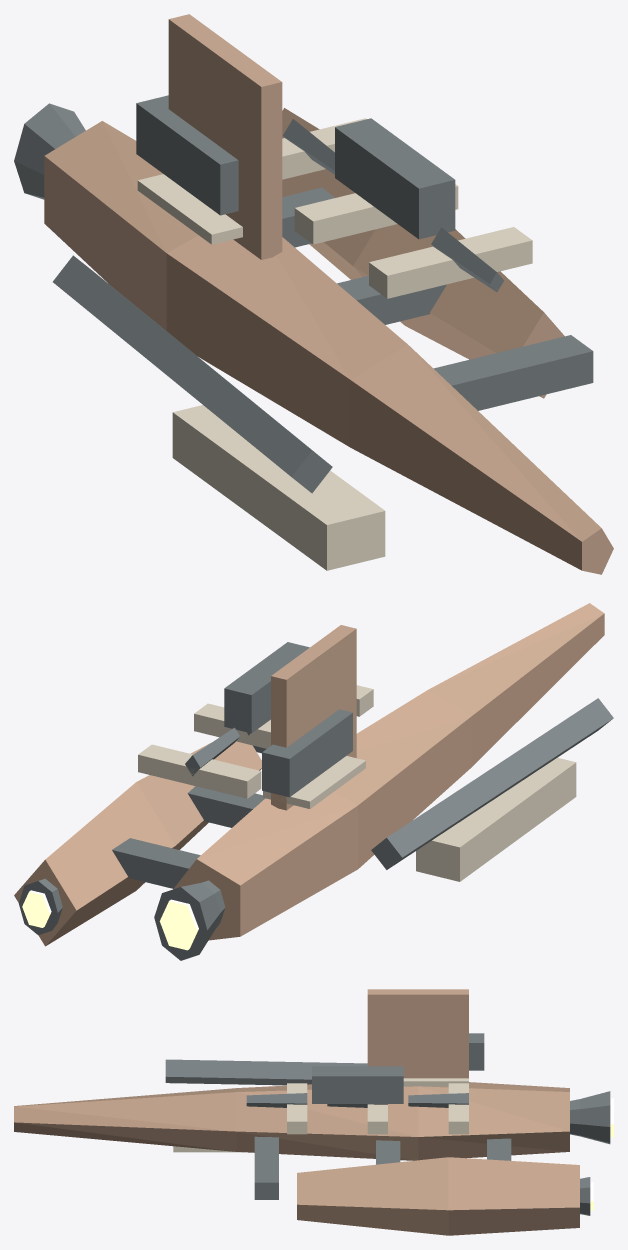
The picture shows the model from 3 angles, top to bottom: view 1: azimuth 30°, elevation 25°; view 2: azimuth 150°, elevation 25°; view 3: azimuth 270°, elevation 25°; orthographic projection. The views are drawn at different scales.
Size of the model in its own units: 7 by 5.45 by 15.7.
